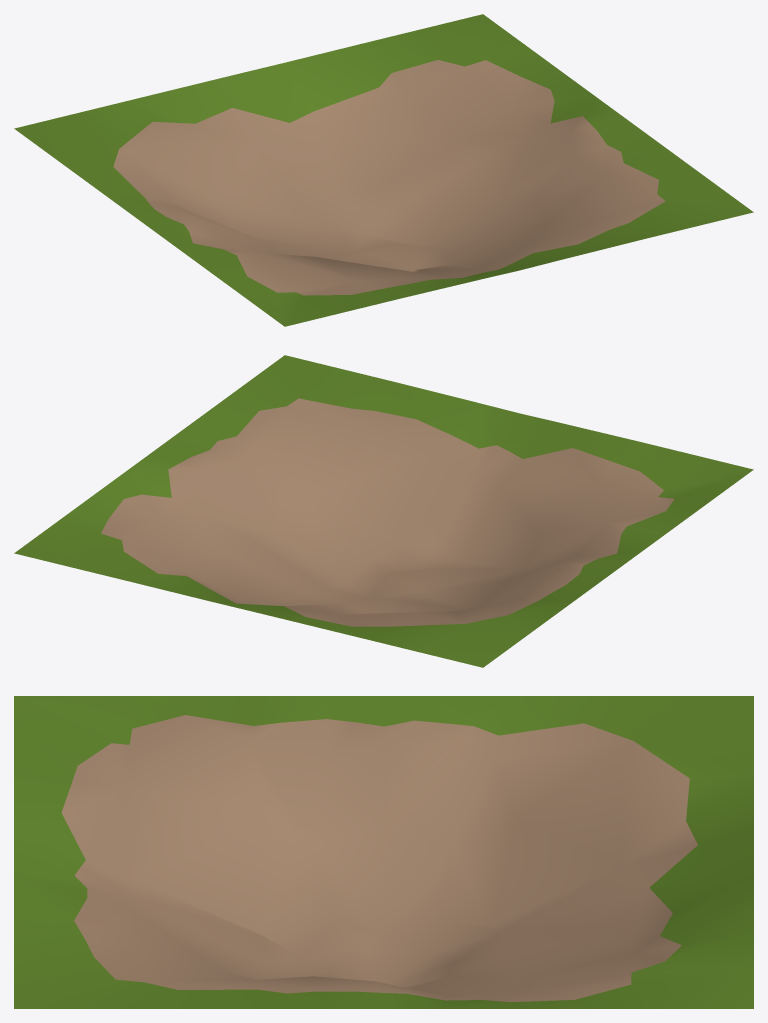
The model's file is Lago_con_arena.fbx.
3 views of the same model, one above another, from view 1: azimuth 30°, elevation 25°; view 2: azimuth 150°, elevation 25°; view 3: azimuth 270°, elevation 25° (orthographic). The views are drawn at different scales.
Parts seen in each view (by area): view 1: ground_06.001, ground_06; view 2: ground_06.001, ground_06; view 3: ground_06.001, ground_06.
Part boxes in pixels (x1=…): ground_06.001: x1=113, y1=60, x2=665, y2=295; ground_06: x1=14, y1=14, x2=753, y2=326; ground_06.001: x1=101, y1=398, x2=674, y2=626; ground_06: x1=14, y1=355, x2=753, y2=667; ground_06.001: x1=61, y1=715, x2=697, y2=1002; ground_06: x1=14, y1=696, x2=753, y2=1008.
Size of the model in its own units: 1600 by 273 by 1600.
